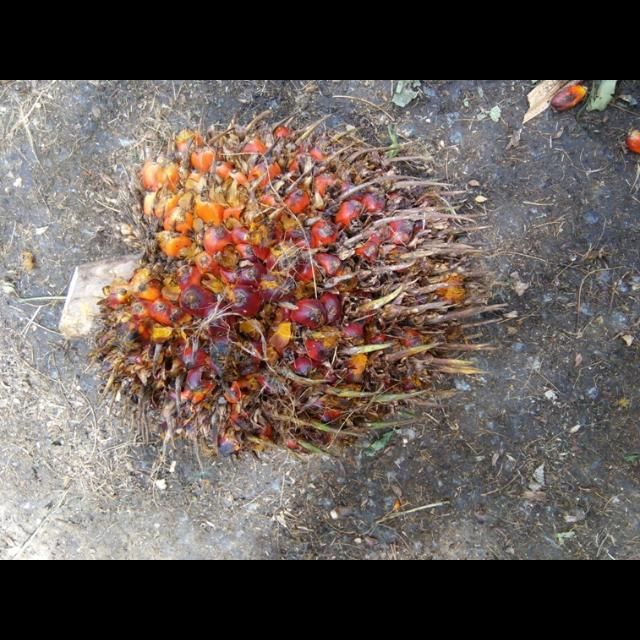Ripe: (90, 123, 482, 467)
